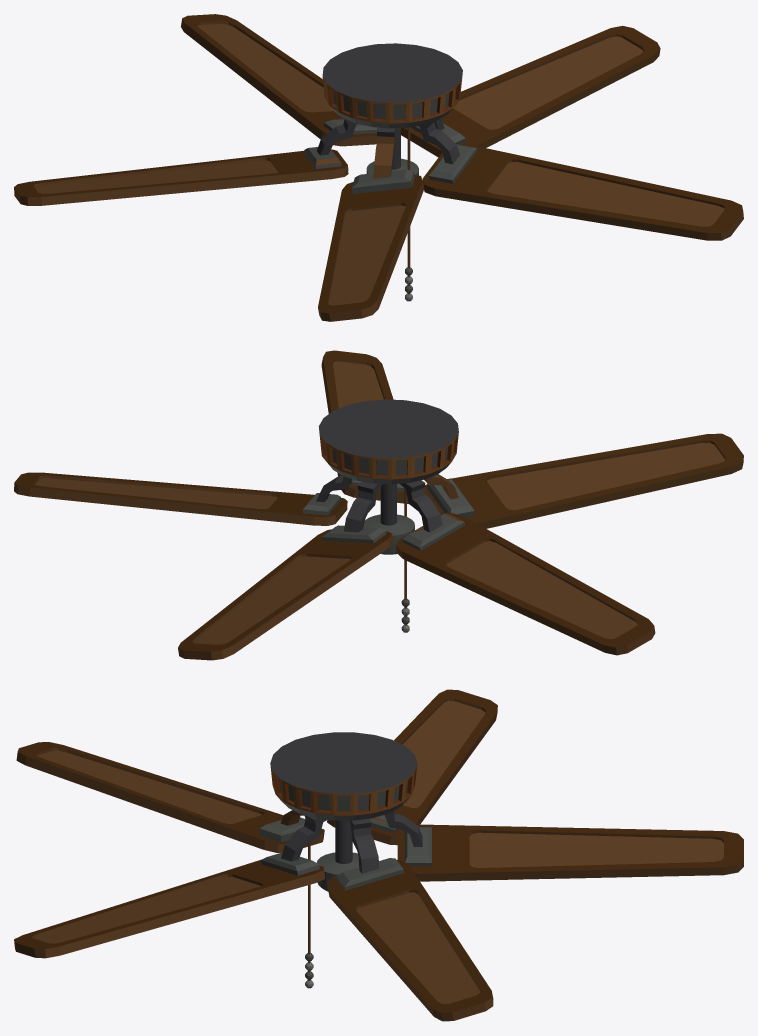
The model's file is Celling_Fan.fbx.
3 views of the same model, one above another, from view 1: azimuth 30°, elevation 25°; view 2: azimuth 150°, elevation 25°; view 3: azimuth 270°, elevation 25° (orthographic). The views are drawn at different scales.
Parts seen in each view (by area): view 1: Cube.064; view 2: Cube.064; view 3: Cube.064.
Boxes of the visible parts, x1,y1,x2,y2 form: Cube.064: [14, 14, 743, 321]; Cube.064: [14, 350, 743, 660]; Cube.064: [14, 689, 743, 1021].
Bounding box in the file's own units: 239 × 77.54 × 228.
